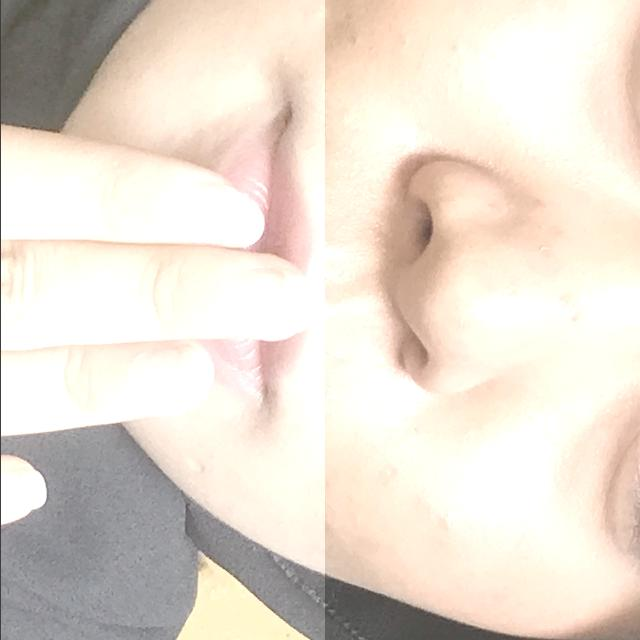ganteng: (0, 0, 324, 640)
